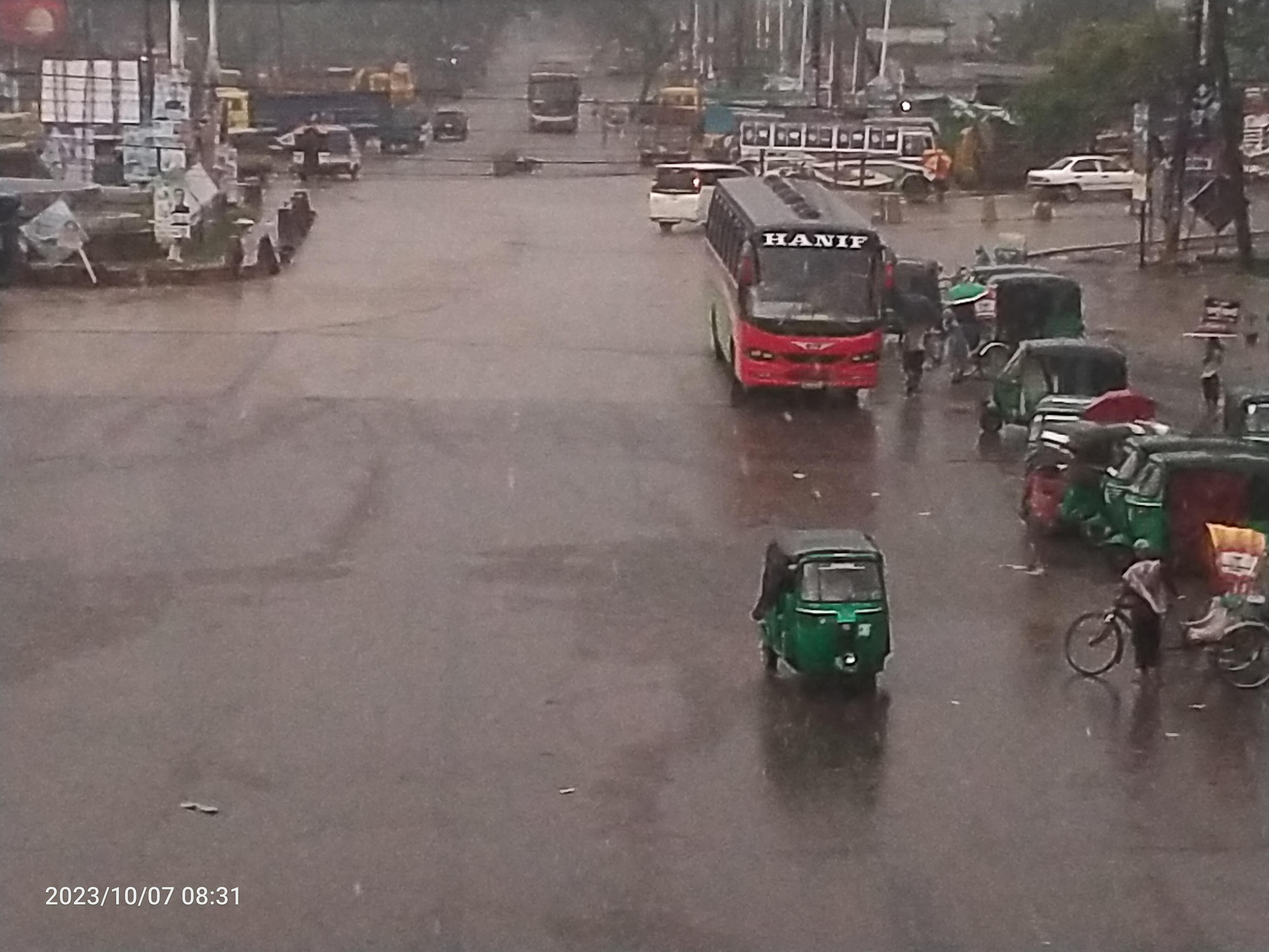Bus: (690, 164, 908, 427), (722, 81, 973, 220), (503, 47, 591, 140)
Car: (1049, 512, 1269, 722), (1006, 143, 1160, 228), (630, 154, 761, 232), (281, 116, 364, 192)
Truck: (198, 75, 426, 152)
